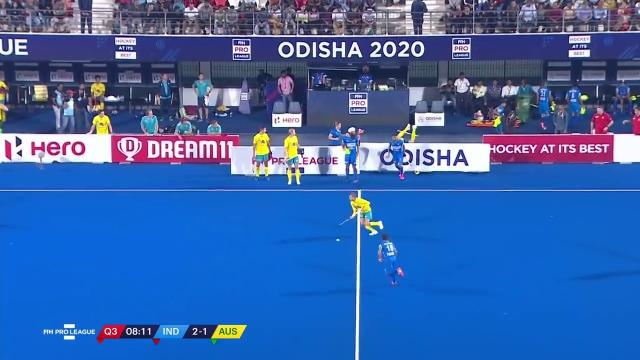ball: (334, 236, 341, 243)
